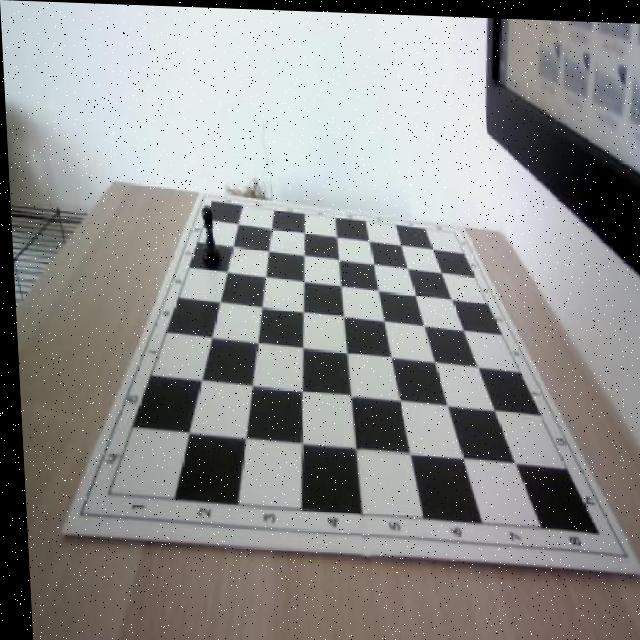black-knight: (196, 204, 217, 263)
